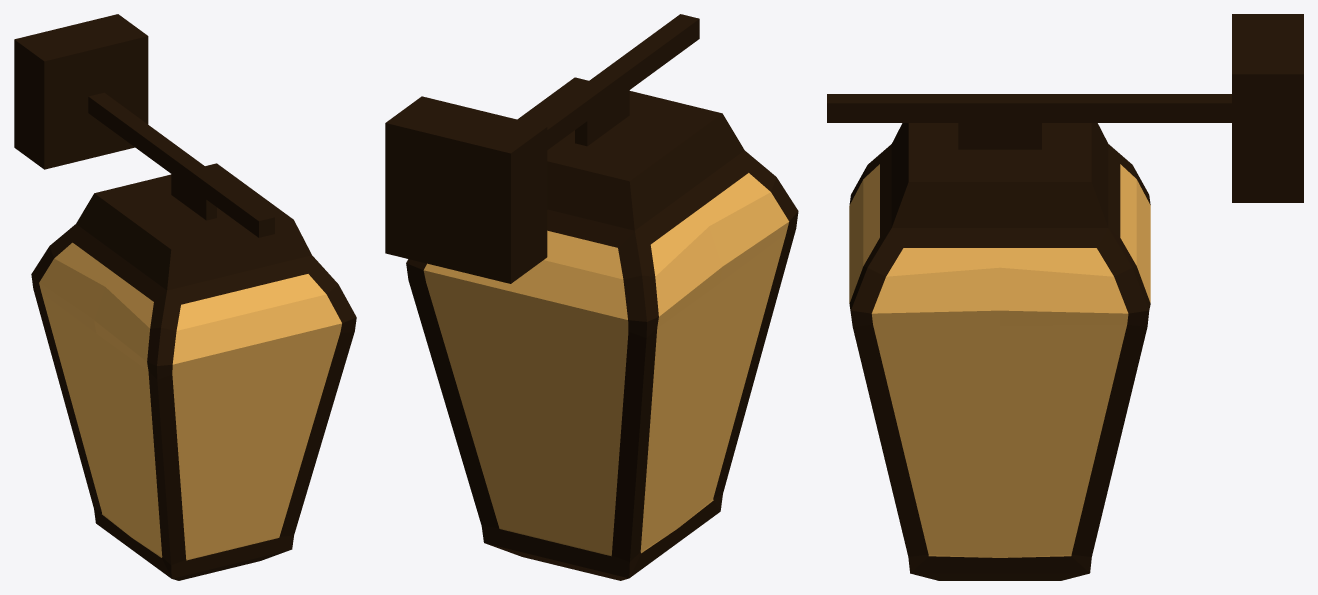
The model's file is Lantern.FBX.
3 renders of one model, left to right at view 1: azimuth 30°, elevation 25°; view 2: azimuth 150°, elevation 25°; view 3: azimuth 270°, elevation 25°, orthographic. The views are drawn at different scales.
Parts seen in each view (by area): view 1: Box001; view 2: Box001; view 3: Box001.
Part boxes in pixels (x1,y1,x2,y2): Box001: (14,14,356,580); Box001: (385,14,798,580); Box001: (827,14,1303,580).
Bounding box in the file's own units: 81.15 × 140 × 166.
Materials: 1 (1 with a texture image).
